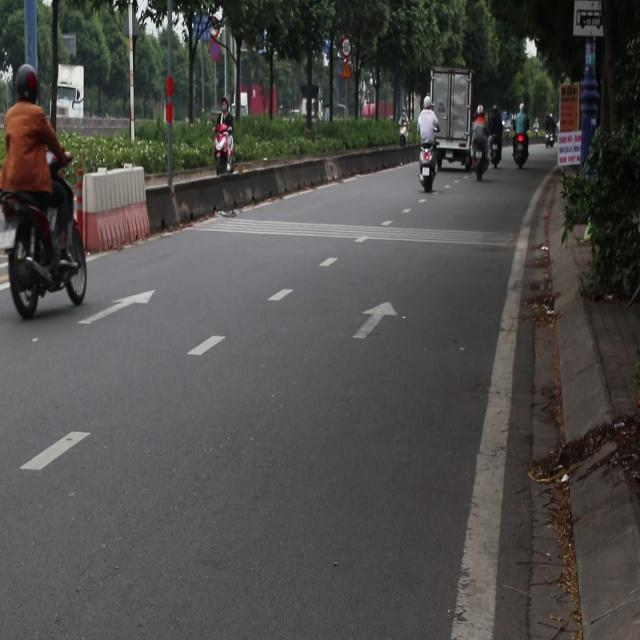motorbike: (3, 153, 92, 304), (206, 125, 248, 189), (471, 114, 491, 183), (392, 110, 416, 152), (419, 144, 438, 193), (512, 108, 529, 156), (492, 120, 502, 171), (549, 127, 559, 150)
truck: (431, 70, 479, 176), (50, 54, 100, 130)
